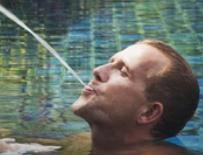Spitting: (39, 31, 203, 135)
